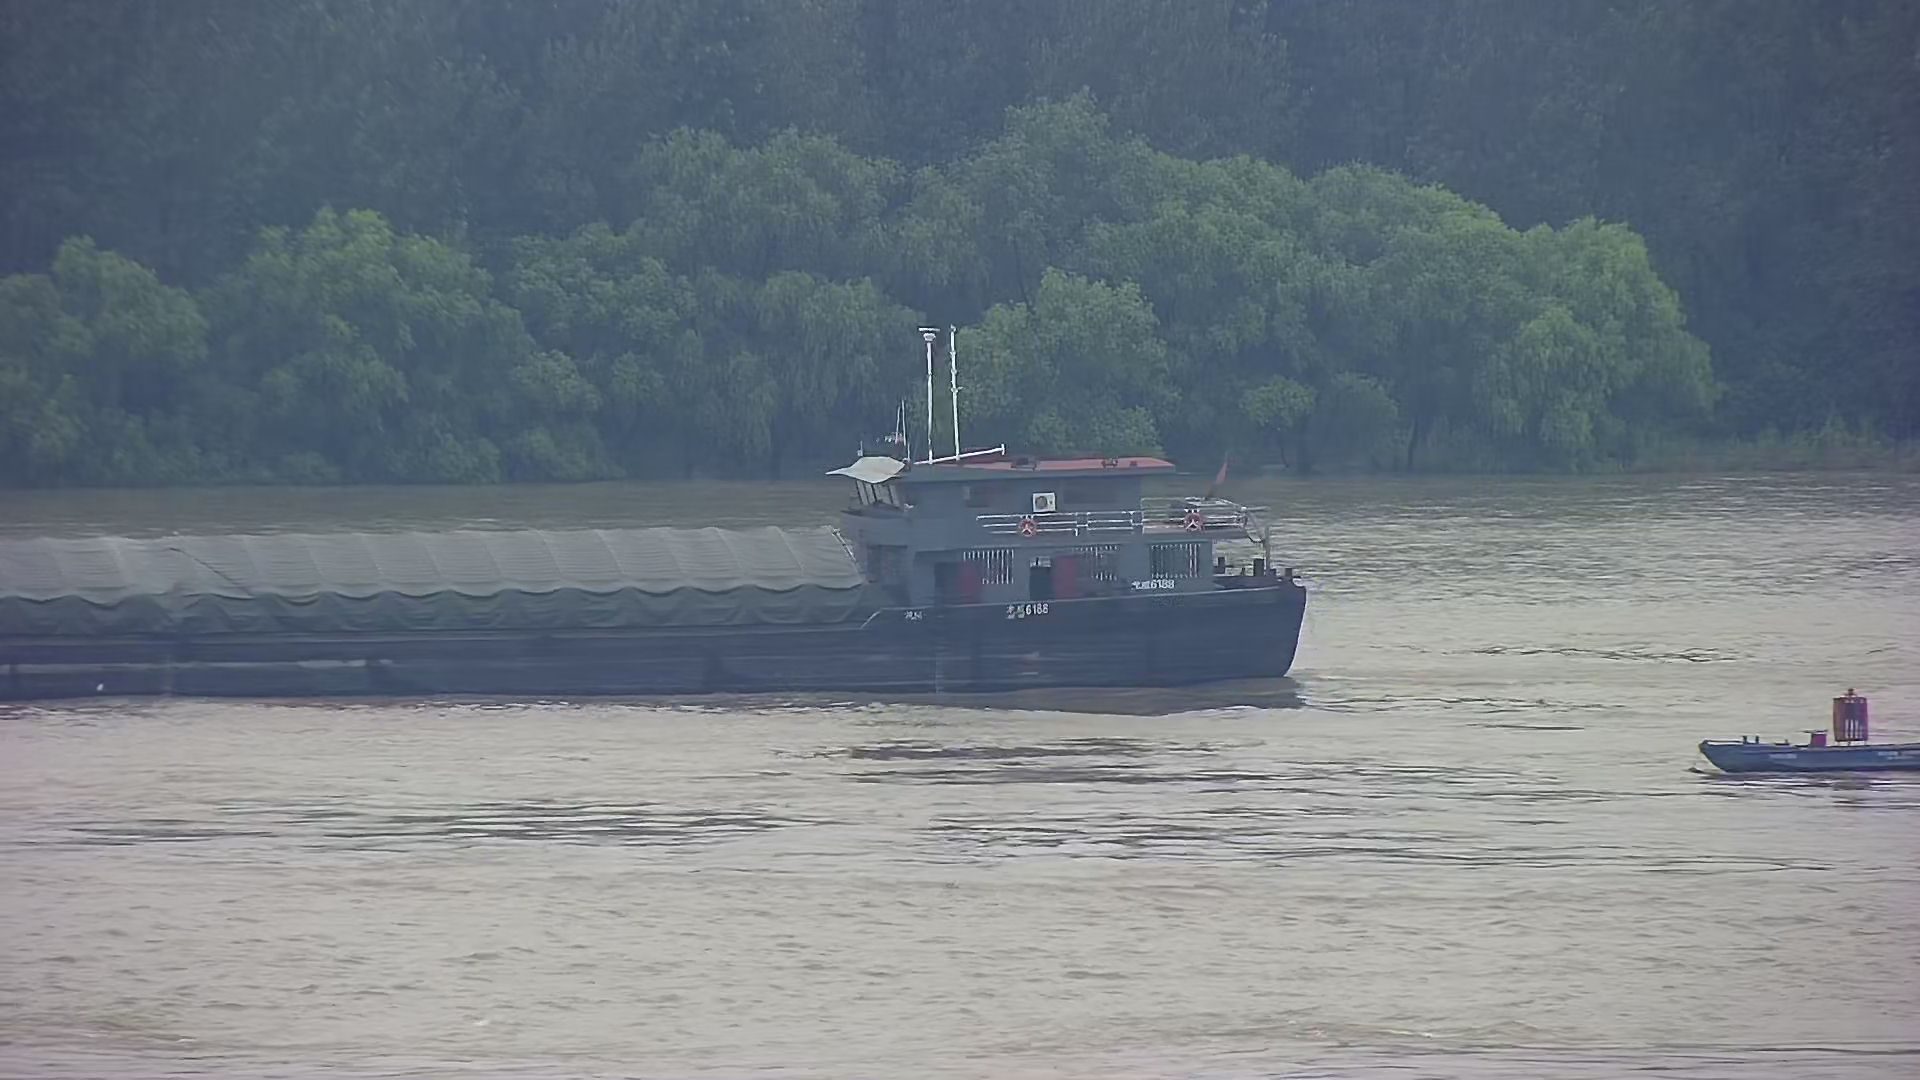boat: (1665, 679, 1920, 791)
ship: (1, 427, 1323, 705)
